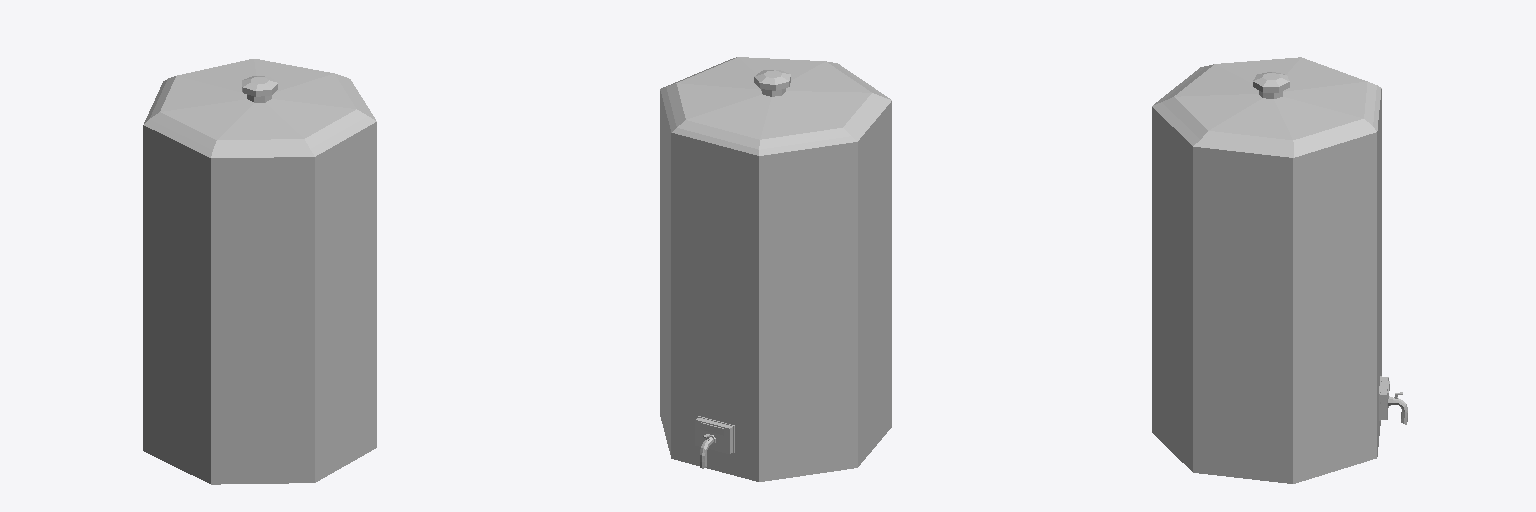
File: coffeeholder.obj
3 views of the same model, side by side, from view 1: azimuth 30°, elevation 25°; view 2: azimuth 150°, elevation 25°; view 3: azimuth 270°, elevation 25° (orthographic).
Parts seen in each view (by area): view 1: coffeeMaker1; view 2: coffeeMaker1; view 3: coffeeMaker1.
Part boxes in pixels (left/top/right/bottom): coffeeMaker1: left=143, top=59, right=376, bottom=484; coffeeMaker1: left=660, top=57, right=891, bottom=481; coffeeMaker1: left=1152, top=57, right=1407, bottom=483.
Size of the model in its own units: 235 by 396 by 258.